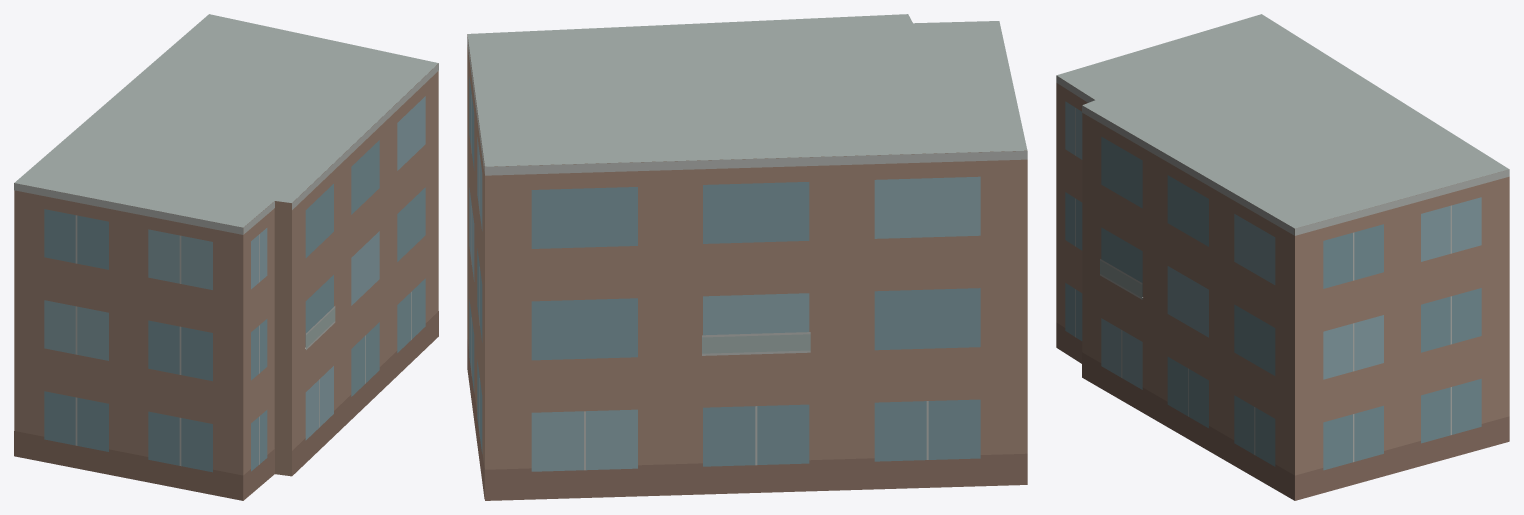
The model's file is survey-upis-32639186.glb.
3 views of the same model, side by side, from view 1: azimuth 30°, elevation 25°; view 2: azimuth 150°, elevation 25°; view 3: azimuth 270°, elevation 25° (orthographic). The views are drawn at different scales.
Parts seen in each view (by area): view 1: survey-upis-32639186.tmp; view 2: survey-upis-32639186.tmp; view 3: survey-upis-32639186.tmp.
Boxes of the visible parts, x1,y1,x2,y2 form: survey-upis-32639186.tmp: [14, 14, 438, 500]; survey-upis-32639186.tmp: [467, 14, 1027, 500]; survey-upis-32639186.tmp: [1056, 14, 1509, 500].
Size of the model in its own units: 15.39 by 9.1 by 13.74.
